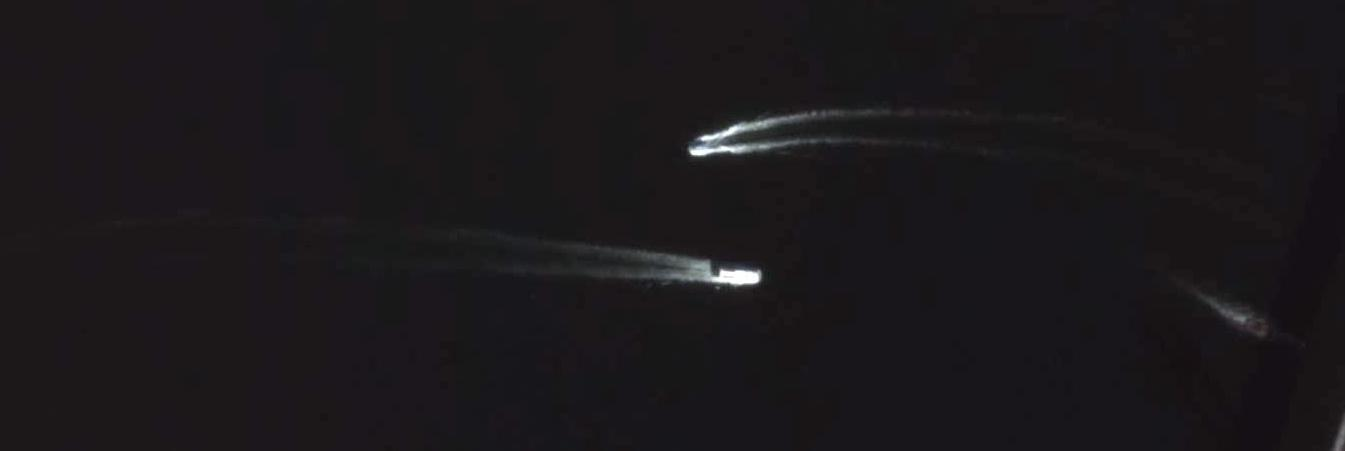person: (719, 269, 762, 285), (1244, 319, 1273, 340), (689, 141, 705, 148)
